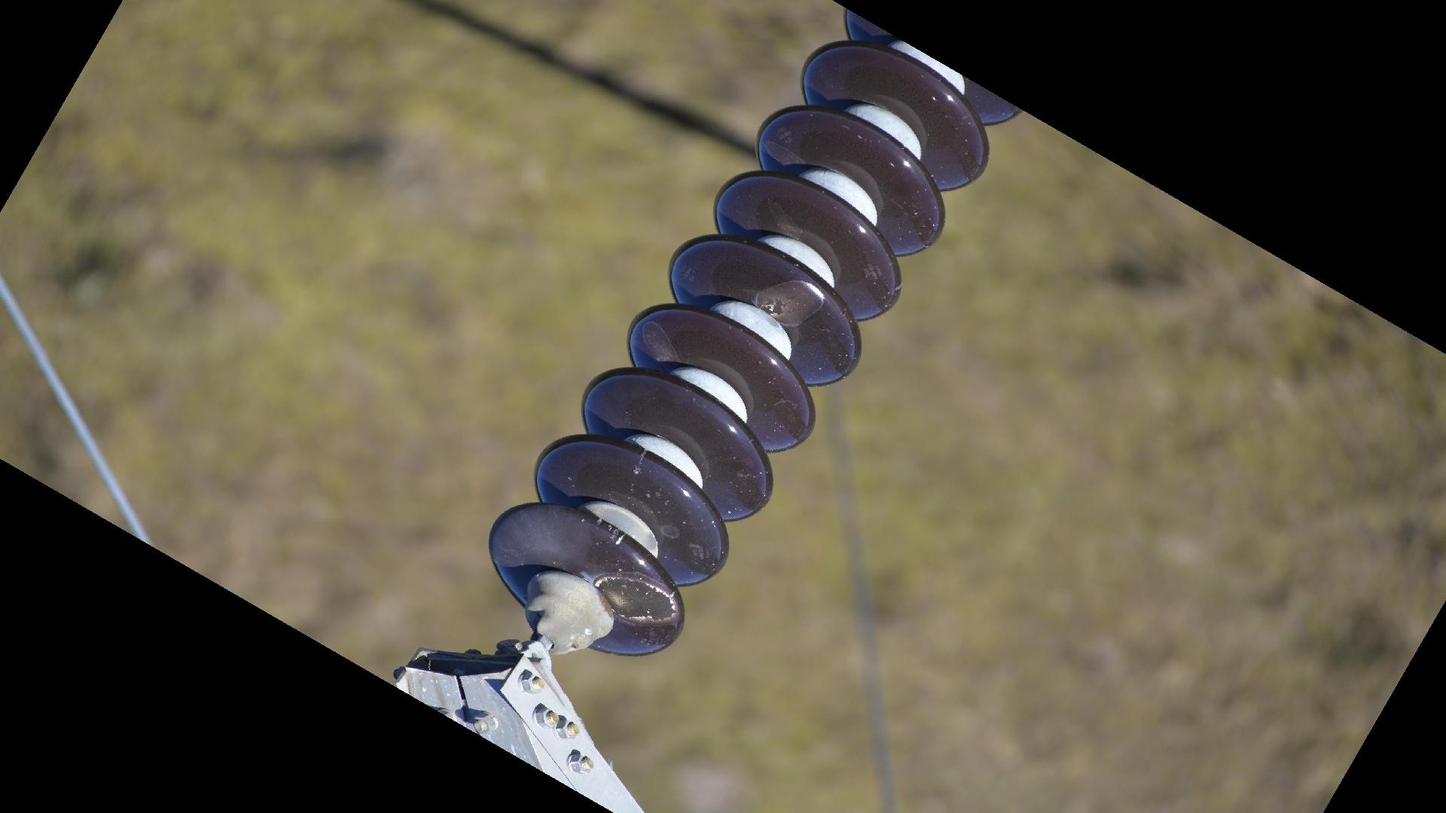insulator: (482, 1, 1027, 666)
insulator_flashover: (592, 571, 681, 629), (753, 275, 826, 327)
